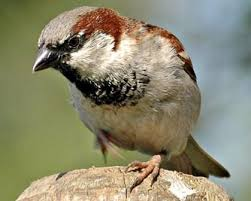hsparrow: (28, 4, 240, 190)
